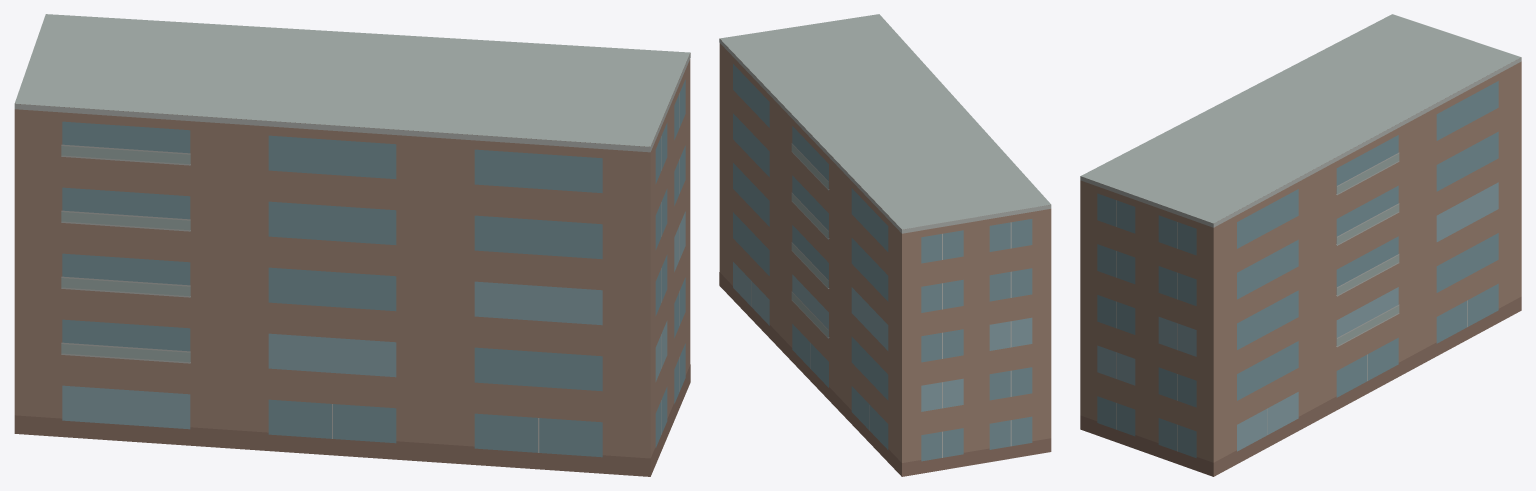
File: survey-upis-32965522.glb
The picture shows the model from 3 angles, left to right: view 1: azimuth 30°, elevation 25°; view 2: azimuth 150°, elevation 25°; view 3: azimuth 270°, elevation 25°; orthographic projection. The views are drawn at different scales.
Visible parts, largest first — view 1: survey-upis-32965522.tmp; view 2: survey-upis-32965522.tmp; view 3: survey-upis-32965522.tmp.
Boxes of the visible parts, x1,y1,x2,y2 form: survey-upis-32965522.tmp: (14,14,690,476); survey-upis-32965522.tmp: (719,14,1051,476); survey-upis-32965522.tmp: (1080,14,1521,476).
Size of the model in its own units: 25.9 by 14.6 by 23.04.
